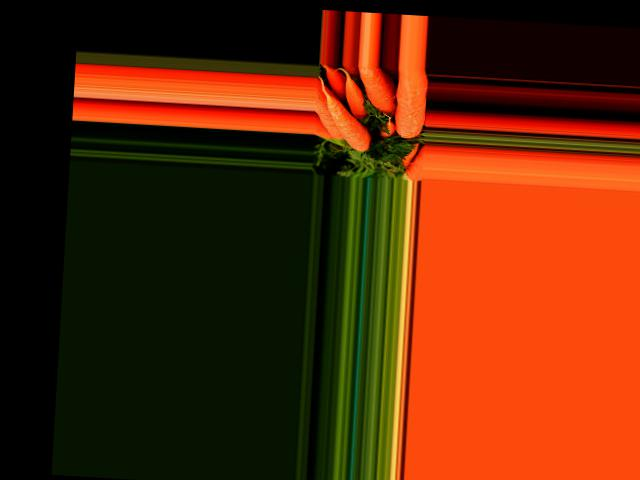carrot: (389, 68, 428, 142)
